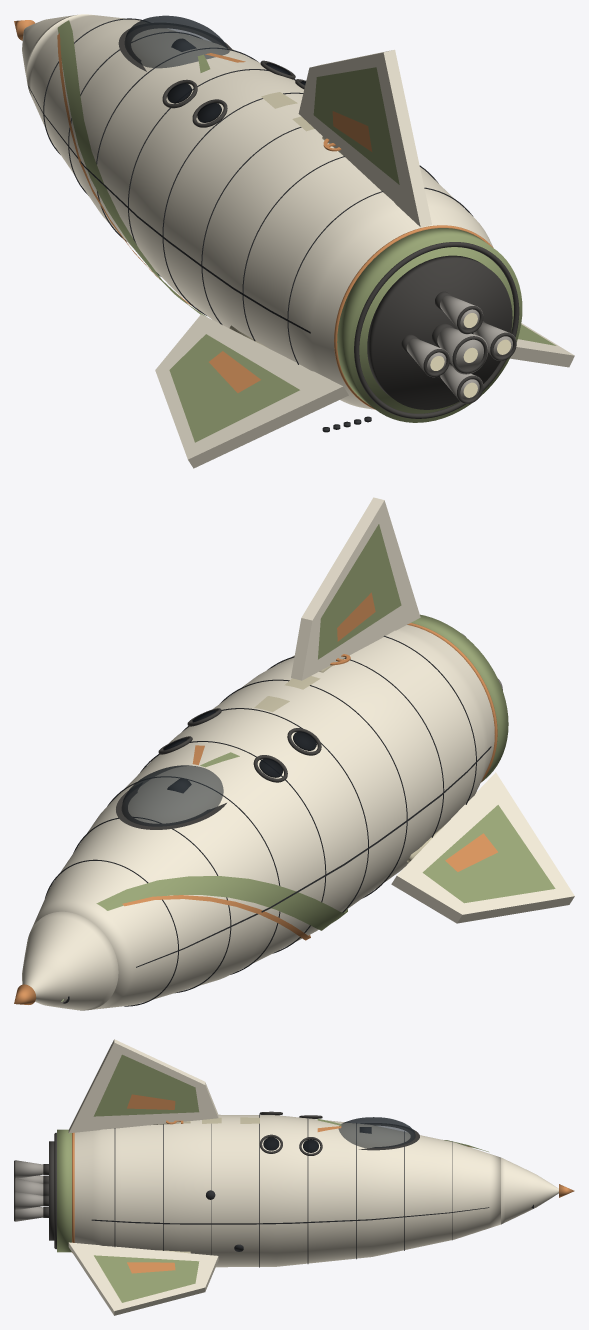
The model's file is Ship_LunarCourier_153144.glb.
The picture shows the model from 3 angles, top to bottom: view 1: azimuth 30°, elevation 25°; view 2: azimuth 150°, elevation 25°; view 3: azimuth 270°, elevation 25°; orthographic projection. The views are drawn at different scales.
Visible parts, largest first — view 1: Fuselage_TaperedPaintedBody, EngineDeck_AftDarkMountPlate, TailFin_LeftLower_broad_CreamAerofoil, AftCollar_PrimaryEngineBand, TailFin_Dorsal_broad_CreamAerofoil, TailFinPanel_LeftLower_PrimarySide_B, TailFinPanel_Dorsal_PrimarySide_A, CanopyGlass_DorsalLowInsetDome, PaintSpiralSash_PrimarySweep, AftTrimRing_DarkRear, TailFin_RightLower_broad_CreamAerofoil, EngineBell_Center_BurnishedNozzle (+12 smaller); view 2: Fuselage_TaperedPaintedBody, TailFin_LeftLower_broad_CreamAerofoil, NoseCone_PaintedNeedleSection, TailFin_Dorsal_broad_CreamAerofoil, TailFinPanel_LeftLower_PrimarySide_B, PaintSpiralSash_PrimarySweep, CanopyGlass_DorsalLowInsetDome, TailFinPanel_Dorsal_PrimarySide_A, AftCollar_PrimaryEngineBand, CanopyFrame_DorsalOvalRim, PaintSpiralSash_SecondaryInnerLine, TailFinTrimPatch_LeftLower_B (+3 smaller); view 3: Fuselage_TaperedPaintedBody, TailFin_Dorsal_broad_CreamAerofoil, TailFin_RightLower_broad_CreamAerofoil, TailFinPanel_Dorsal_PrimarySide_B, TailFinPanel_RightLower_PrimarySide_A, NoseCone_PaintedNeedleSection, CanopyGlass_DorsalLowInsetDome, AftCollar_PrimaryEngineBand, HullLongitudinalSeam_01, EngineDeck_AftDarkMountPlate, TailFinTrimPatch_Dorsal_B, TailFinTrimPatch_RightLower_A (+4 smaller).
Part boxes in pixels (x1,y1,x2,y2): Fuselage_TaperedPaintedBody: (27, 14, 492, 409); EngineDeck_AftDarkMountPlate: (367, 255, 512, 409); TailFin_LeftLower_broad_CreamAerofoil: (155, 314, 348, 468); AftCollar_PrimaryEngineBand: (337, 228, 522, 422); TailFin_Dorsal_broad_CreamAerofoil: (298, 49, 431, 227); TailFinPanel_LeftLower_PrimarySide_B: (169, 334, 299, 442); TailFinPanel_Dorsal_PrimarySide_A: (313, 67, 399, 184); CanopyGlass_DorsalLowInsetDome: (124, 15, 229, 68); PaintSpiralSash_PrimarySweep: (57, 20, 206, 316); AftTrimRing_DarkRear: (354, 242, 519, 418); TailFin_RightLower_broad_CreamAerofoil: (510, 323, 574, 367); EngineBell_Center_BurnishedNozzle: (437, 327, 488, 374); Fuselage_TaperedPaintedBody: (31, 625, 494, 1009); TailFin_LeftLower_broad_CreamAerofoil: (391, 772, 574, 923); NoseCone_PaintedNeedleSection: (22, 911, 118, 1010); TailFin_Dorsal_broad_CreamAerofoil: (291, 497, 420, 680); TailFinPanel_LeftLower_PrimarySide_B: (422, 805, 555, 903); PaintSpiralSash_PrimarySweep: (96, 876, 347, 930); CanopyGlass_DorsalLowInsetDome: (121, 765, 223, 826); TailFinPanel_Dorsal_PrimarySide_A: (318, 524, 401, 659); AftCollar_PrimaryEngineBand: (411, 614, 508, 781); CanopyFrame_DorsalOvalRim: (116, 783, 226, 829); PaintSpiralSash_SecondaryInnerLine: (122, 895, 310, 940); TailFinTrimPatch_LeftLower_B: (445, 833, 497, 871); Fuselage_TaperedPaintedBody: (74, 1114, 500, 1267); TailFin_Dorsal_broad_CreamAerofoil: (68, 1039, 218, 1133); TailFin_RightLower_broad_CreamAerofoil: (68, 1242, 218, 1315); TailFinPanel_Dorsal_PrimarySide_B: (93, 1054, 199, 1116); TailFinPanel_RightLower_PrimarySide_A: (94, 1255, 199, 1302); NoseCone_PaintedNeedleSection: (501, 1157, 558, 1224); CanopyGlass_DorsalLowInsetDome: (338, 1117, 415, 1148); AftCollar_PrimaryEngineBand: (57, 1129, 71, 1252); HullLongitudinalSeam_01: (91, 1207, 489, 1224); EngineDeck_AftDarkMountPlate: (49, 1141, 54, 1240); TailFinTrimPatch_Dorsal_B: (127, 1094, 175, 1109); TailFinTrimPatch_RightLower_A: (127, 1262, 175, 1273).
Bounding box in the file's own units: 4.25 × 3.88 × 8.7.
